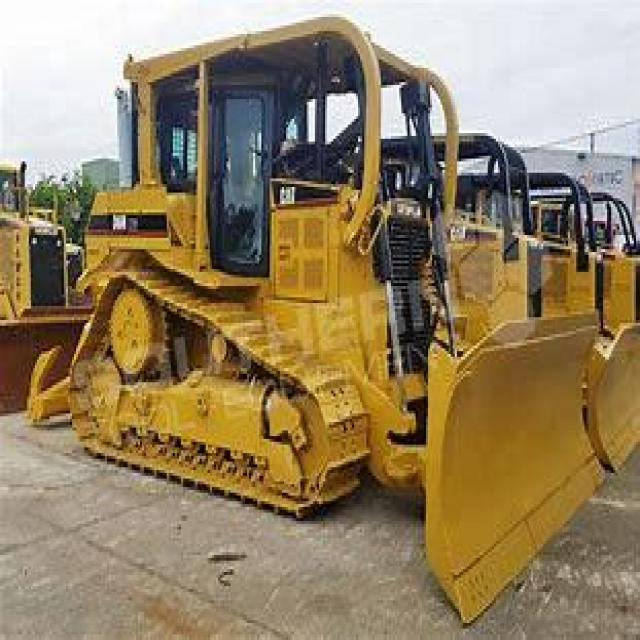Bulldozer: (57, 17, 624, 626)
